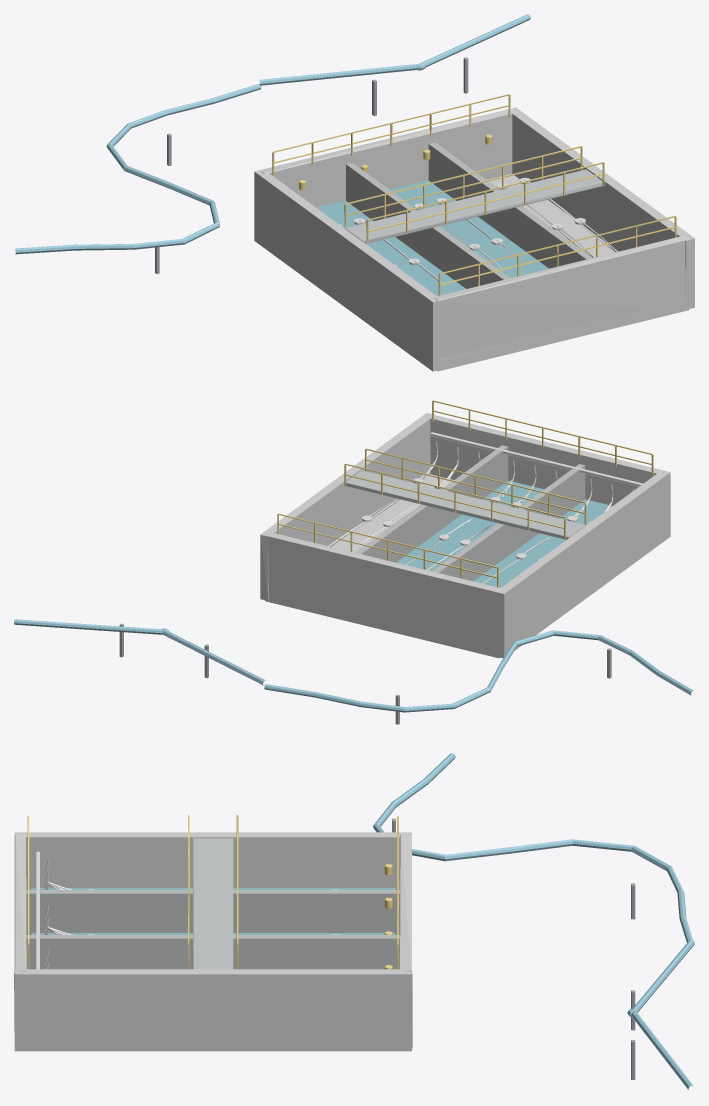
3 renders of one model, top to bottom at view 1: azimuth 30°, elevation 25°; view 2: azimuth 150°, elevation 25°; view 3: azimuth 270°, elevation 25°, orthographic. The views are drawn at different scales.
Visible parts, largest first — view 1: render-batch-5, render-batch-3, render-batch-7, render-batch-0, render-batch-1, render-batch-4, render-batch-6, render-batch-2; view 2: render-batch-5, render-batch-3, render-batch-7, render-batch-0, render-batch-1, render-batch-4, render-batch-6, render-batch-2; view 3: render-batch-5, render-batch-3, render-batch-4, render-batch-1, render-batch-7, render-batch-0, render-batch-6, render-batch-2.
Part boxes in pixels (x1,y1,x2,y2): render-batch-5: (254,107,694,371); render-batch-3: (346,142,592,288); render-batch-7: (272,94,676,295); render-batch-0: (316,180,548,296); render-batch-1: (15,14,530,254); render-batch-4: (345,169,602,243); render-batch-6: (339,177,617,285); render-batch-2: (155,57,468,273); render-batch-5: (260,413,670,658); render-batch-3: (355,445,585,581); render-batch-7: (277,400,653,587); render-batch-0: (396,480,612,587); render-batch-1: (14,619,693,712); render-batch-4: (346,470,585,539); render-batch-6: (328,432,642,583); render-batch-2: (119,623,611,724); render-batch-5: (14,832,412,1051); render-batch-3: (26,890,399,969); render-batch-4: (192,838,233,969); render-batch-1: (373,753,694,1090); render-batch-7: (27,815,398,969); render-batch-0: (31,888,395,934); render-batch-6: (35,851,338,969); render-batch-2: (392,818,635,1079).
Bounding box in the file's own units: 30.07 × 4.27 × 25.63.
